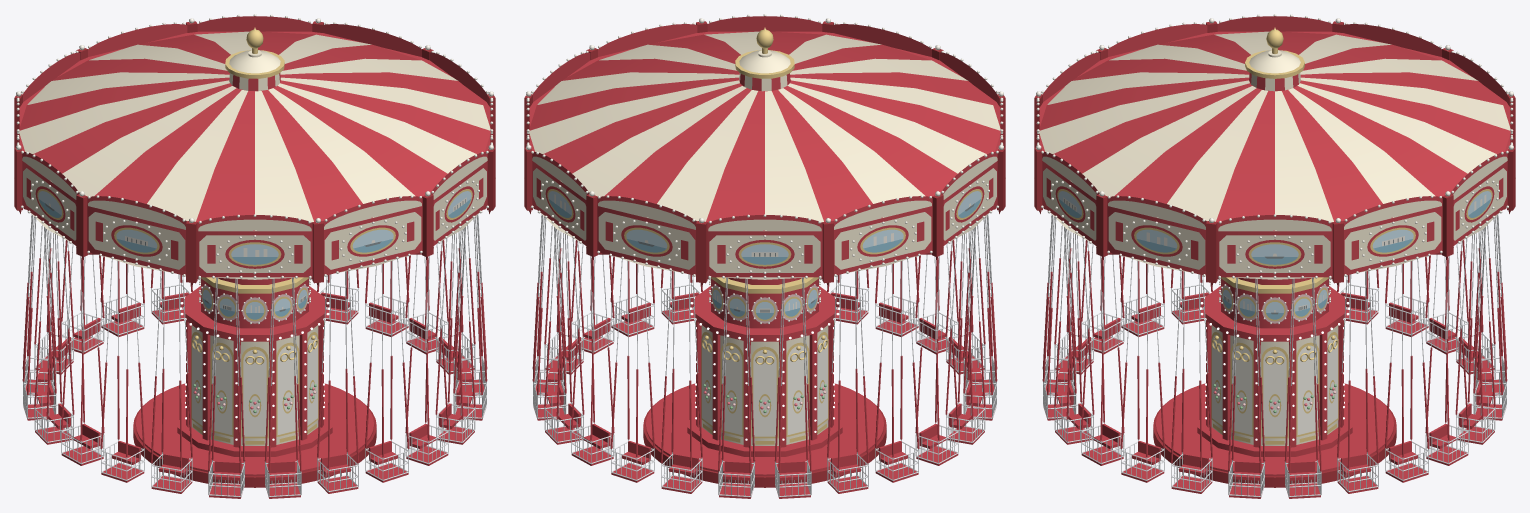
The picture shows the model from 3 angles, left to right: view 1: azimuth 30°, elevation 25°; view 2: azimuth 150°, elevation 25°; view 3: azimuth 270°, elevation 25°; orthographic projection.
Visible parts, largest first — view 1: rotor, base, swing14, swing17, swing13, swing18, swing15, swing16, swing11, swing20, swing12, swing19 (+12 smaller); view 2: rotor, base, swing6, swing9, swing5, swing10, swing7, swing8, swing3, swing12, swing4, swing11 (+12 smaller); view 3: rotor, base, swing1, swing22, swing2, swing21, swing0, swing23, swing4, swing19, swing3, swing20 (+12 smaller).
Boxes of the visible parts, x1,y1,x2,y2 form: rotor: (14,14,495,286); base: (133,277,376,487); swing14: (150,271,192,493); swing17: (317,271,359,493); swing13: (100,259,144,482); swing18: (365,259,409,482); swing15: (208,277,245,498); swing16: (264,277,301,498); swing11: (34,228,74,444); swing20: (435,228,475,444); swing12: (61,244,104,465); swing19: (405,244,448,465); rotor: (524,14,1005,286); base: (643,277,886,487); swing6: (660,271,702,493); swing9: (827,271,869,493); swing5: (610,259,654,482); swing10: (875,259,919,482); swing7: (718,277,755,498); swing8: (774,277,811,498); swing3: (544,228,584,444); swing12: (945,228,985,444); swing4: (571,244,614,465); swing11: (915,244,958,465); rotor: (1034,14,1515,286); base: (1153,277,1396,487); swing1: (1337,271,1379,493); swing22: (1170,271,1212,493); swing2: (1385,259,1429,482); swing21: (1120,259,1164,482); swing0: (1284,277,1321,498); swing23: (1228,277,1265,498); swing4: (1455,228,1495,444); swing19: (1054,228,1094,444); swing3: (1425,244,1468,465); swing20: (1081,244,1124,465).
Size of the model in its own units: 9.3 by 8.72 by 9.3.
